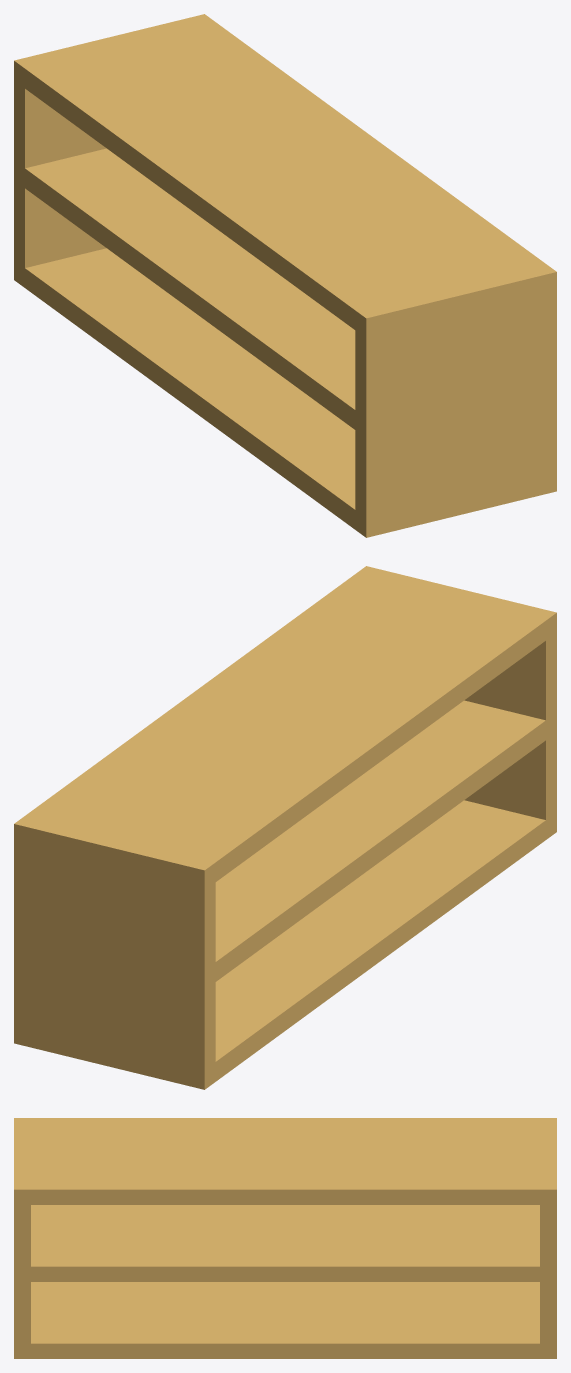
File: shelf.gltf
3 renders of one model, top to bottom at view 1: azimuth 30°, elevation 25°; view 2: azimuth 150°, elevation 25°; view 3: azimuth 270°, elevation 25°, orthographic. The views are drawn at different scales.
Visible parts, largest first — view 1: Cube.002; view 2: Cube.002; view 3: Cube.002.
Boxes of the visible parts, x1,y1,x2,y2 form: Cube.002: (14, 14, 556, 537); Cube.002: (14, 566, 556, 1089); Cube.002: (14, 1118, 556, 1358).
Bounding box in the file's own units: 2 × 2.2 × 6.4.
